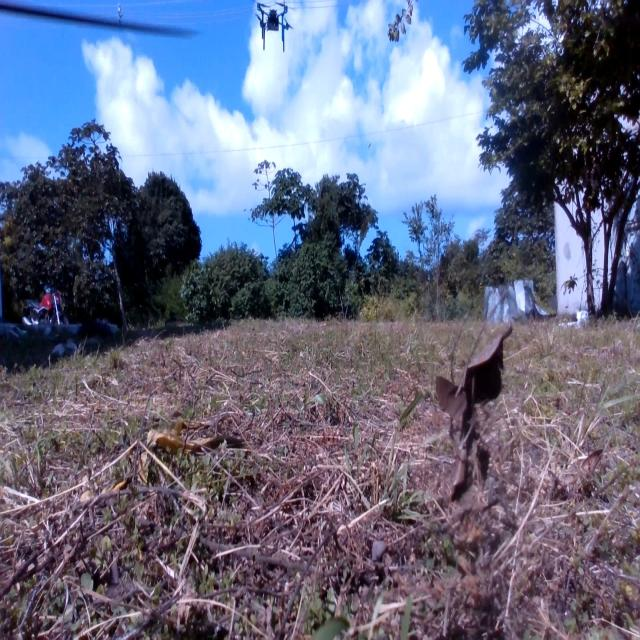-uav-: (245, 0, 300, 62)
